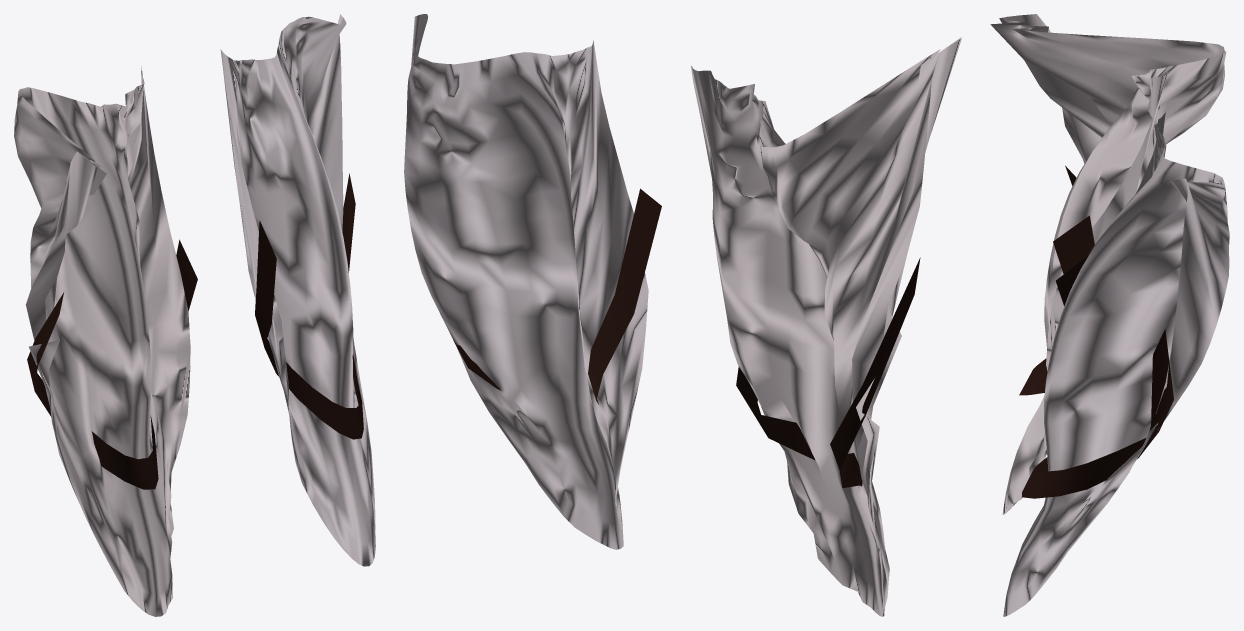
File: pinguino_cara.glb
3 views of the same model, side by side, from view 1: azimuth 30°, elevation 25°; view 2: azimuth 150°, elevation 25°; view 3: azimuth 270°, elevation 25° (orthographic). The views are drawn at different scales.
Parts seen in each view (by area): view 1: Lids; view 2: Lids; view 3: Lids.
Boxes of the visible parts, x1,y1,x2,y2 form: Lids: [14, 14, 375, 616]; Lids: [404, 14, 961, 616]; Lids: [990, 14, 1229, 616].
Size of the model in its own units: 0.3968 by 0.5339 by 0.2443.
